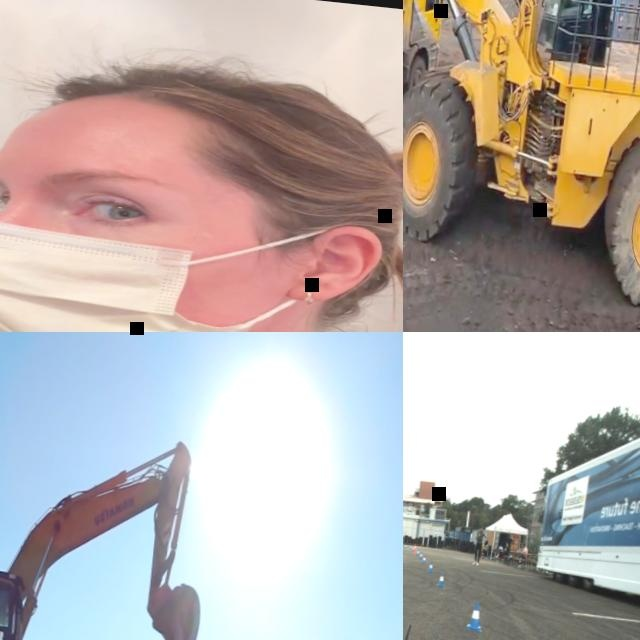Mask: (0, 180, 343, 332)
NO-Hardhat: (4, 44, 403, 197), (479, 524, 483, 528), (523, 543, 526, 546), (508, 534, 510, 537), (500, 543, 502, 546), (496, 547, 498, 549)
NO-Safety Vest: (476, 530, 482, 542), (507, 538, 511, 547), (523, 548, 528, 555), (505, 546, 510, 553)
Person: (0, 31, 403, 332), (472, 523, 485, 566), (516, 543, 528, 568), (497, 541, 510, 563), (493, 546, 500, 558), (507, 535, 513, 548), (482, 543, 486, 558), (498, 544, 503, 551)
Safety Cone: (466, 600, 485, 631), (437, 571, 447, 587), (427, 561, 434, 572), (422, 554, 427, 563), (412, 543, 416, 553), (419, 551, 423, 559), (416, 549, 420, 556), (412, 545, 414, 551), (404, 544, 407, 548), (481, 540, 483, 545), (410, 545, 412, 549), (483, 544, 485, 548)
machinery: (403, 0, 640, 327), (0, 410, 218, 640), (552, 0, 640, 53)
